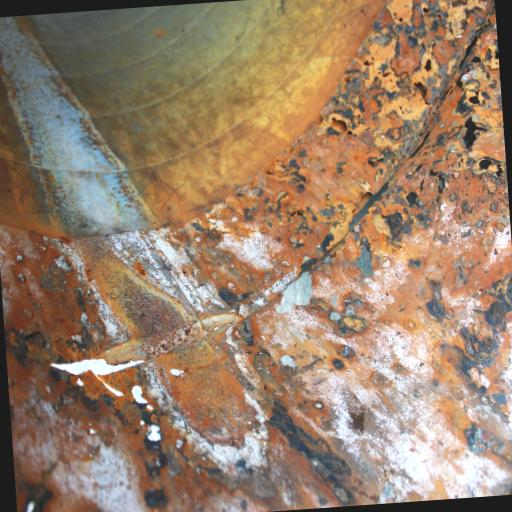segmentation: (0, 0, 512, 512), (0, 0, 365, 237), (314, 0, 495, 183), (407, 40, 510, 236), (0, 226, 134, 362), (376, 175, 435, 212)
